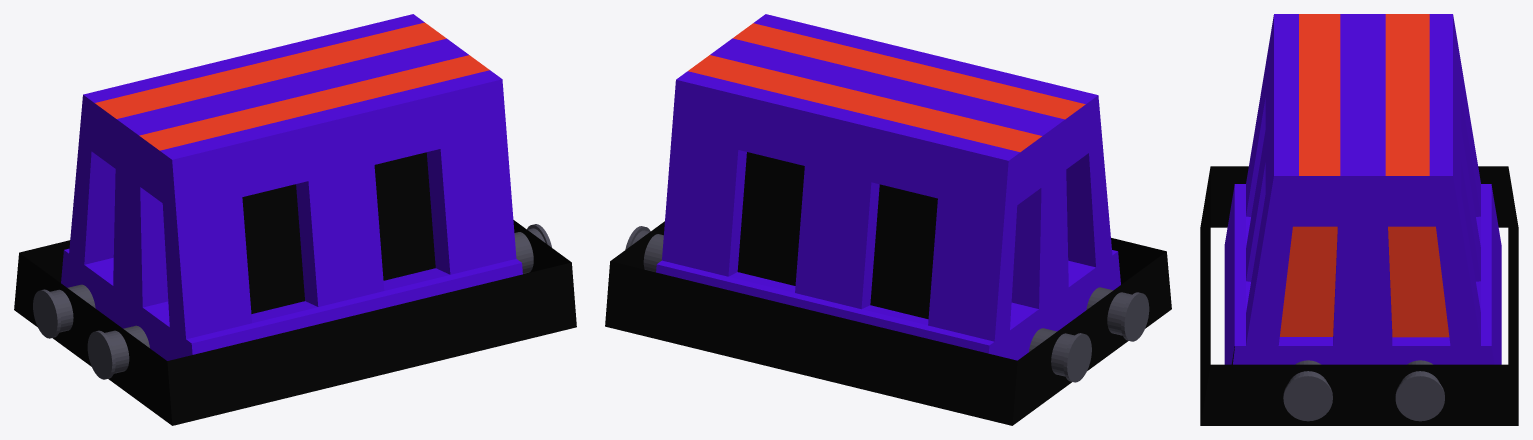
The model's file is Tren SWSdef2.0.fbx.
3 renders of one model, left to right at view 1: azimuth 30°, elevation 25°; view 2: azimuth 150°, elevation 25°; view 3: azimuth 270°, elevation 25°, orthographic.
Visible parts, largest first — view 1: TrenSWS; view 2: TrenSWS; view 3: TrenSWS.
Boxes of the visible parts, bbox=[...] form: TrenSWS: bbox=[14, 14, 576, 425]; TrenSWS: bbox=[605, 14, 1171, 425]; TrenSWS: bbox=[1200, 14, 1518, 425].
Bounding box in the file's own units: 401 × 229 × 249.
Materials: 3 (3 with a texture image).
